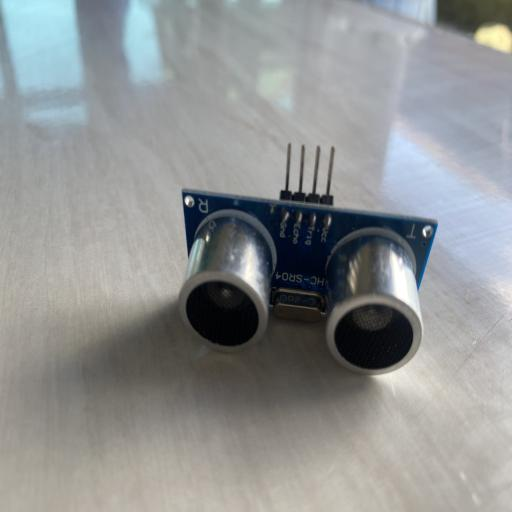Ultrasonic Sensor: (176, 142, 438, 376)
